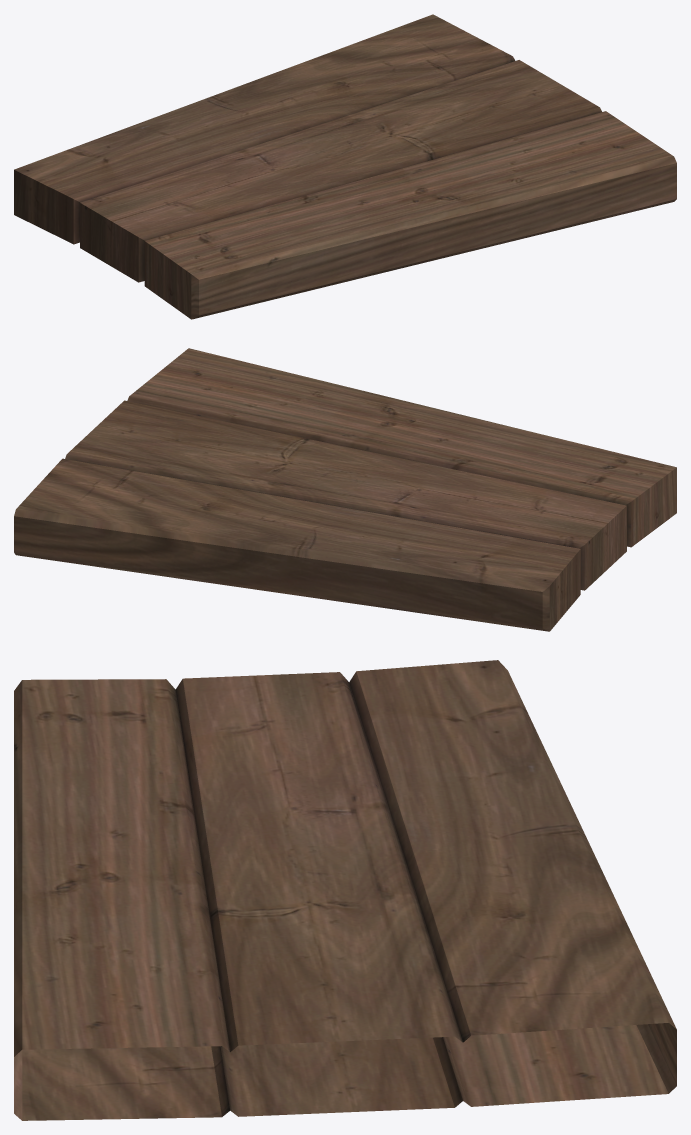
Rendered from SM_I_ChunkyPlanks.FBX.
3 renders of one model, top to bottom at view 1: azimuth 30°, elevation 25°; view 2: azimuth 150°, elevation 25°; view 3: azimuth 270°, elevation 25°, orthographic. The views are drawn at different scales.
Visible parts, largest first — view 1: SM_I_DeckingPlanks; view 2: SM_I_DeckingPlanks; view 3: SM_I_DeckingPlanks.
Boxes of the visible parts, bbox=[...] form: SM_I_DeckingPlanks: bbox=[14, 14, 676, 319]; SM_I_DeckingPlanks: bbox=[14, 348, 676, 631]; SM_I_DeckingPlanks: bbox=[14, 660, 676, 1120].
Bounding box in the file's own units: 88.71 × 7.56 × 63.76.
